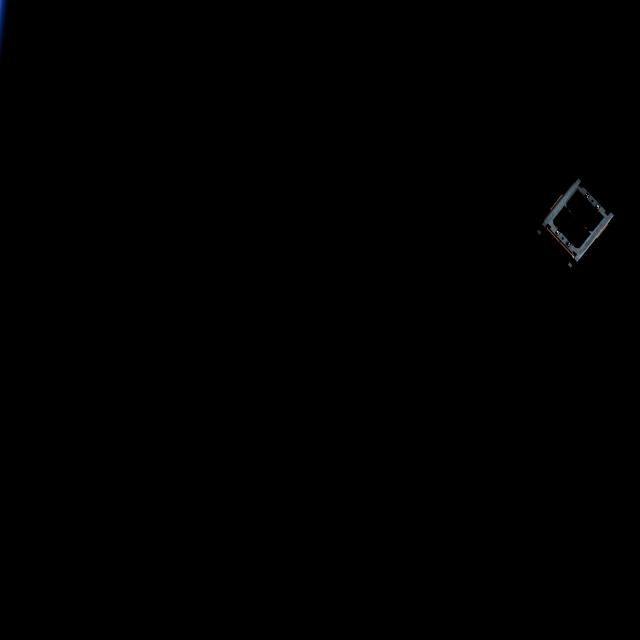medium_debris: (541, 175, 618, 266)
